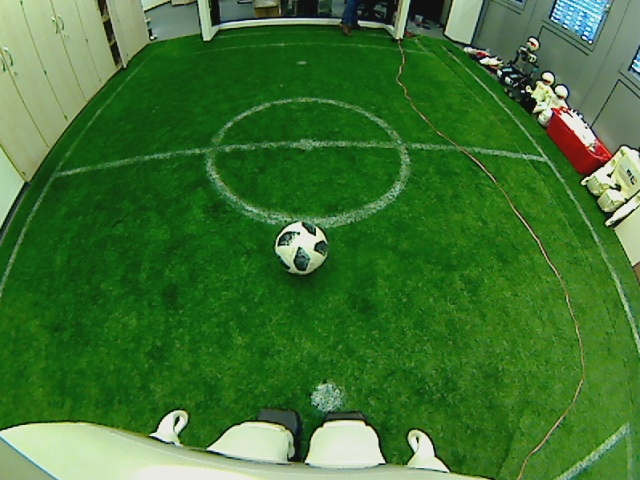ball: (272, 217, 330, 275)
